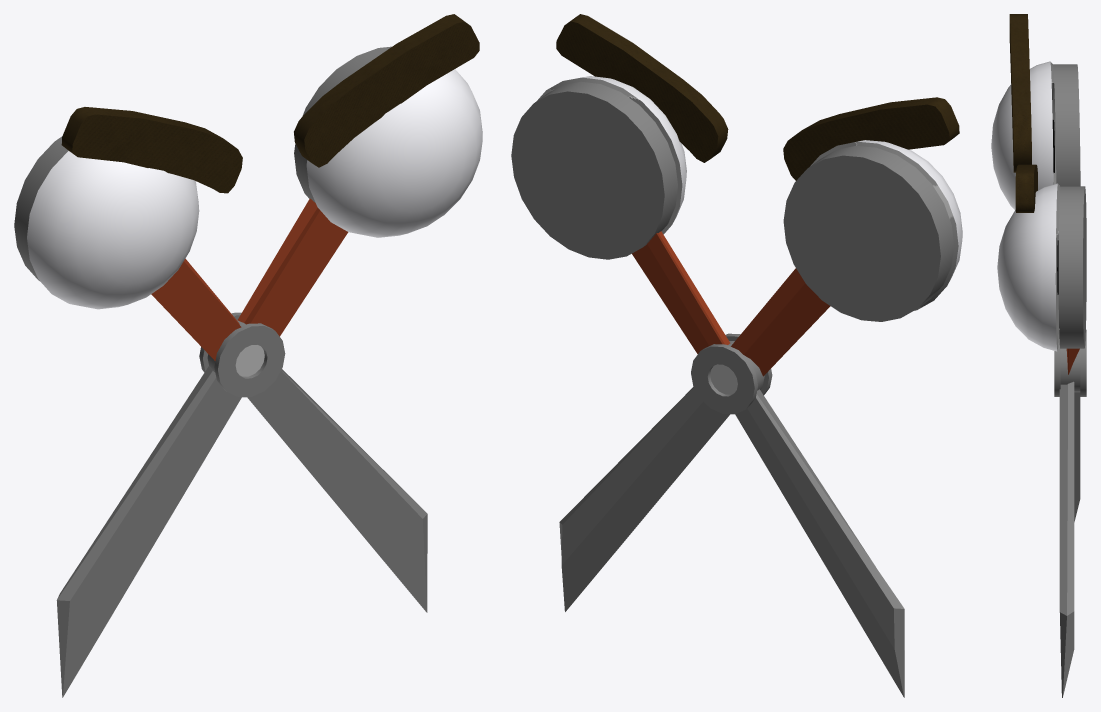
Rendered from ScissorCharacter_TPose.fbx.
3 views of the same model, side by side, from view 1: azimuth 30°, elevation 25°; view 2: azimuth 150°, elevation 25°; view 3: azimuth 270°, elevation 25° (orthographic). The views are drawn at different scales.
Visible parts, largest first — view 1: LBlade, REye.001, LEye.001, RBlade, LEyebrow, REyebrow, ScissorMid, REye, LEye; view 2: REye, LEye, RBlade, LBlade, LEyebrow, REyebrow, ScissorMid, REye.001, LEye.001; view 3: LEye.001, LEye, RBlade, REye.001, REye, REyebrow, ScissorMid, LEyebrow, LBlade.
Boxes of the visible parts, <box> form: LBlade: <box>56,198,348,697</box>; REye.001: <box>27,151,199,309</box>; LEye.001: <box>306,69,482,237</box>; RBlade: <box>151,258,427,612</box>; LEyebrow: <box>294,14,479,167</box>; REyebrow: <box>61,107,242,193</box>; ScissorMid: <box>199,312,285,397</box>; REye: <box>14,136,68,280</box>; LEye: <box>294,46,391,202</box>; REye: <box>783,141,958,321</box>; LEye: <box>511,77,682,259</box>; RBlade: <box>559,268,830,611</box>; LBlade: <box>632,231,904,697</box>; LEyebrow: <box>556,14,728,162</box>; REyebrow: <box>783,97,959,180</box>; ScissorMid: <box>691,333,772,414</box>; REye.001: <box>858,140,962,281</box>; LEye.001: <box>582,76,686,222</box>; LEye.001: <box>997,183,1057,351</box>; LEye: <box>1055,183,1086,351</box>; RBlade: <box>1059,381,1074,697</box>; REye.001: <box>991,61,1053,209</box>; REye: <box>1050,62,1080,186</box>; REyebrow: <box>1009,14,1031,172</box>; ScissorMid: <box>1054,329,1086,396</box>; LEyebrow: <box>1015,164,1037,212</box>; LBlade: <box>1066,348,1080,521</box>.
Bounding box in the file's own units: 369 × 472 × 77.48.
